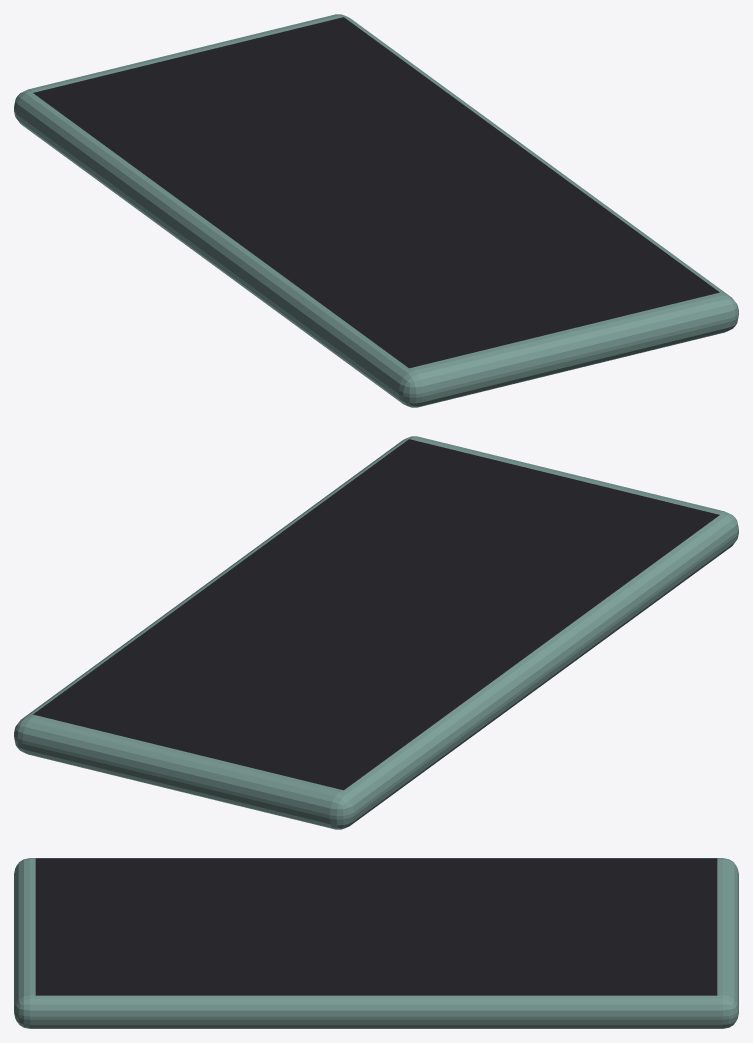
The model's file is motorola-moto-g-model-129-flagship-2021.glb.
3 renders of one model, top to bottom at view 1: azimuth 30°, elevation 25°; view 2: azimuth 150°, elevation 25°; view 3: azimuth 270°, elevation 25°, orthographic. The views are drawn at different scales.
Parts seen in each view (by area): view 1: Phone_Screen, Phone_Body; view 2: Phone_Screen, Phone_Body; view 3: Phone_Screen, Phone_Body.
Boxes of the visible parts, x1,y1,x2,y2 form: Phone_Screen: (33,17,719,368); Phone_Body: (14,14,738,407); Phone_Screen: (33,439,719,790); Phone_Body: (14,436,738,829); Phone_Screen: (35,858,717,995); Phone_Body: (14,858,738,1028).
Bounding box in the file's own units: 0.0775 × 0.0079 × 0.159.
